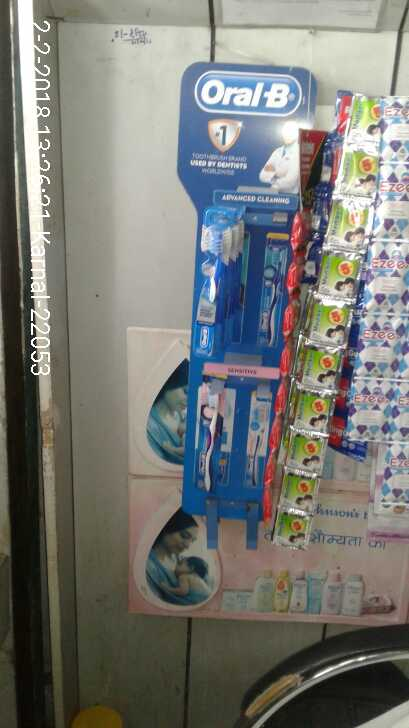oralb: (199, 200, 224, 358), (196, 391, 226, 494)
